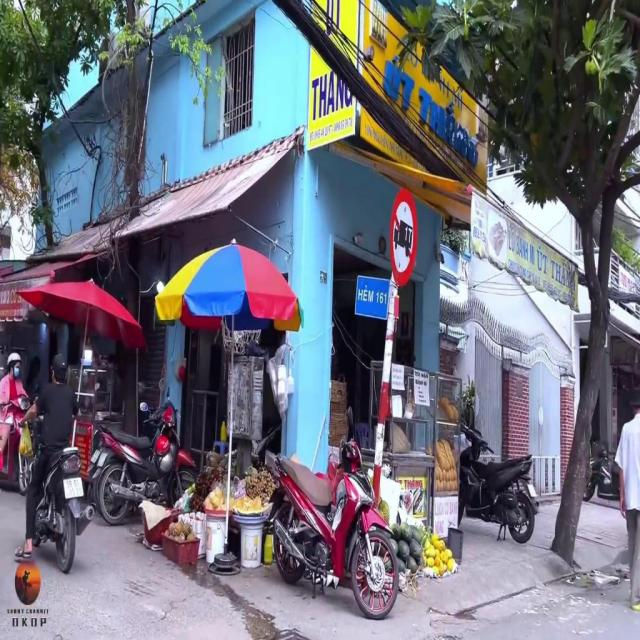cam_o_to_tai: (390, 188, 417, 286)
